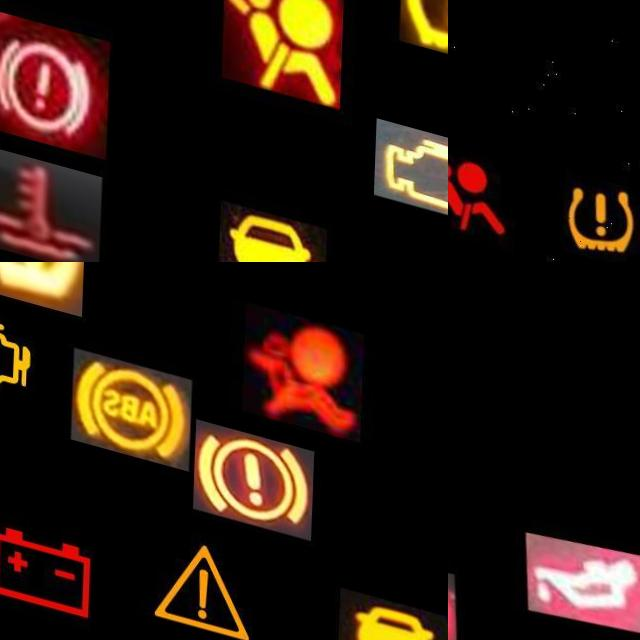Central Warning lamp: (146, 496, 268, 640)
Engine cooling system: (0, 140, 105, 262)
